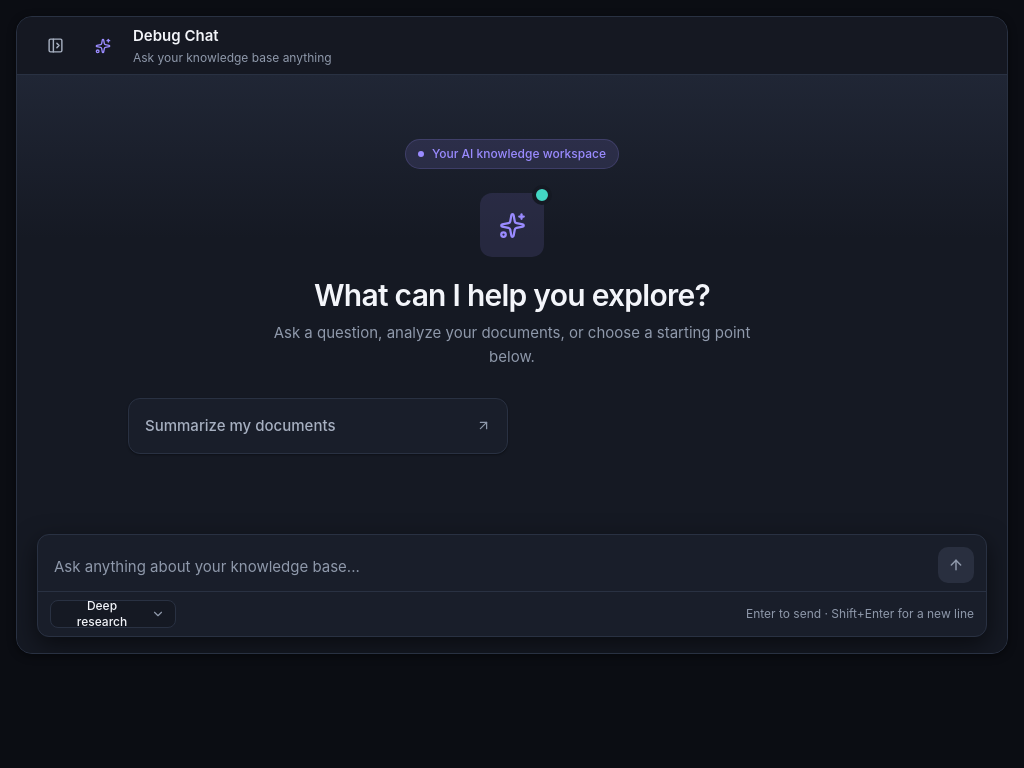
Scenario: ChatTab › sends extended mode requests
The image size is (1024, 768).
In the text box named "Chat message": coordinates (492, 567) 54,551 -> 930,583, type "Run the extended flow"
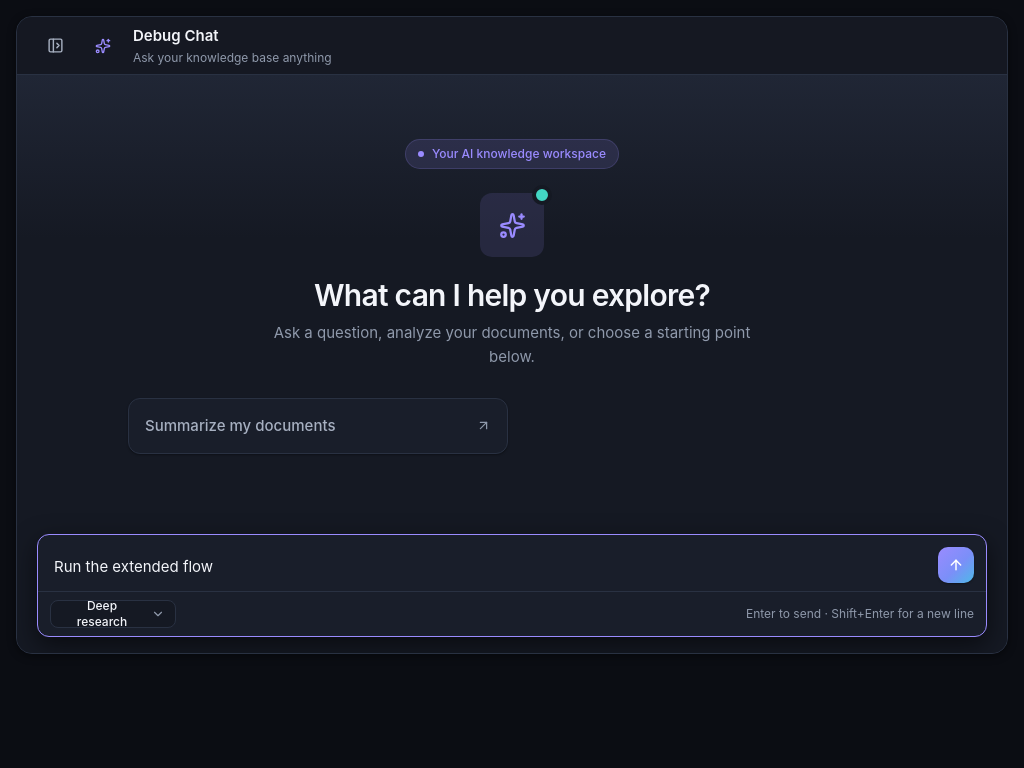
Click the button named "Send message": coordinates (956, 565) 938,547 -> 974,583
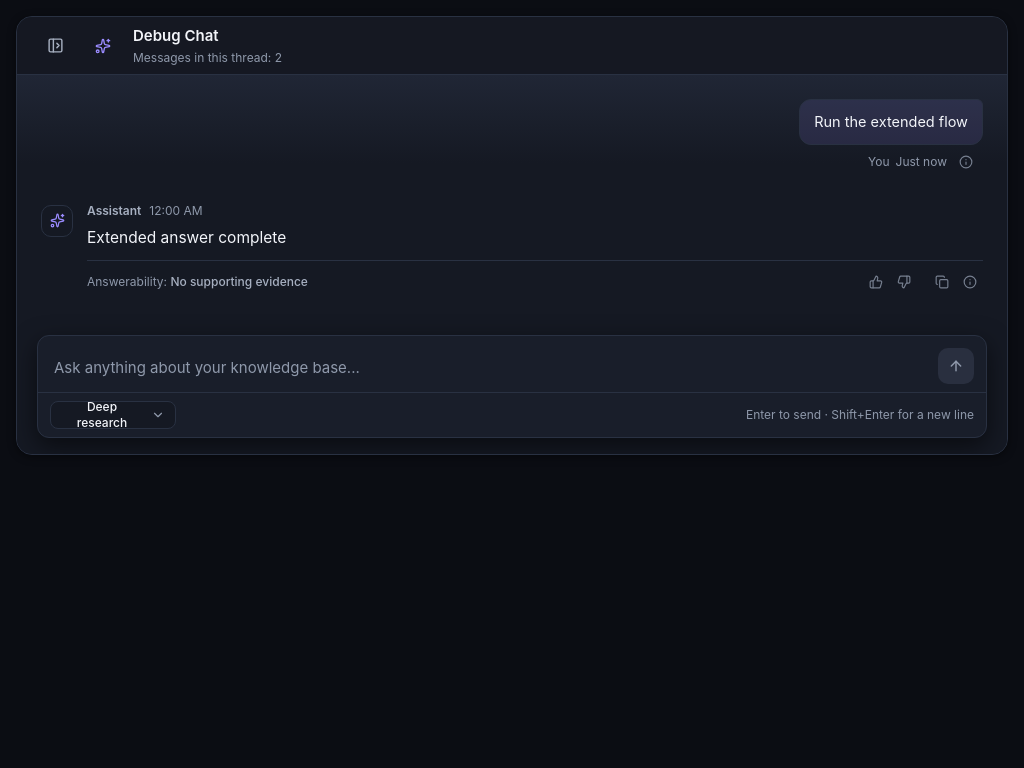
Check: the text "Extended answer complete" is shown, box 87,228 -> 286,247
